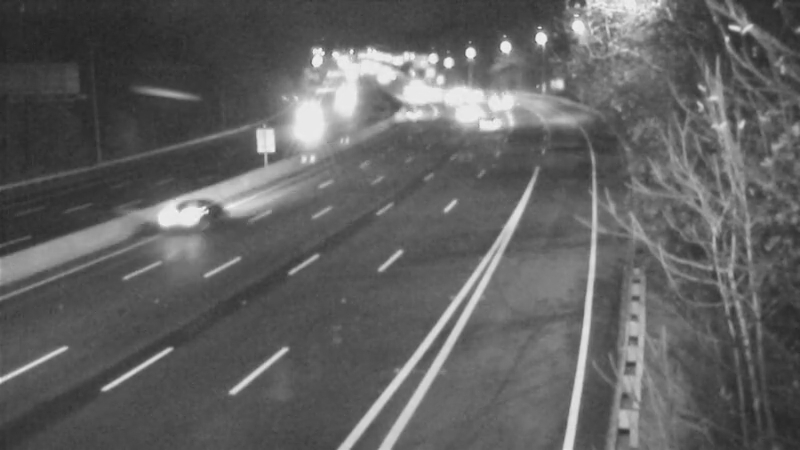vehicle: (148, 162, 228, 242), (440, 85, 490, 135), (385, 86, 435, 136), (465, 101, 515, 151), (280, 93, 330, 143)
